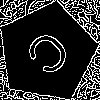C: (22, 27, 81, 86)
